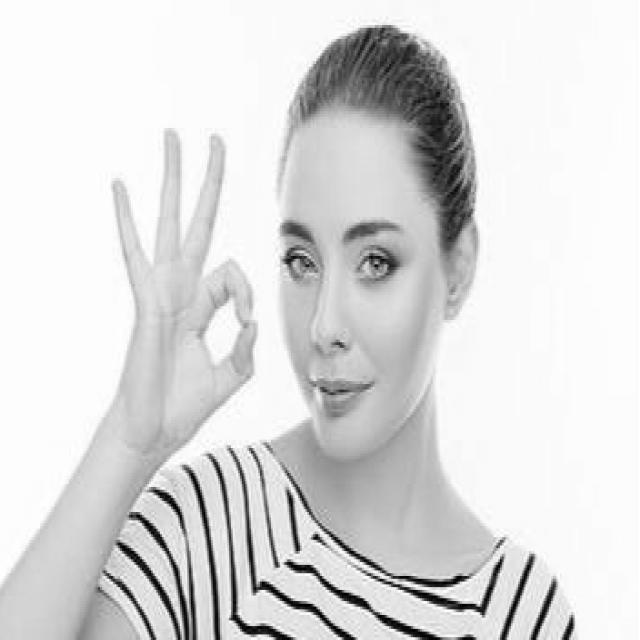perfect: (101, 118, 262, 467)
